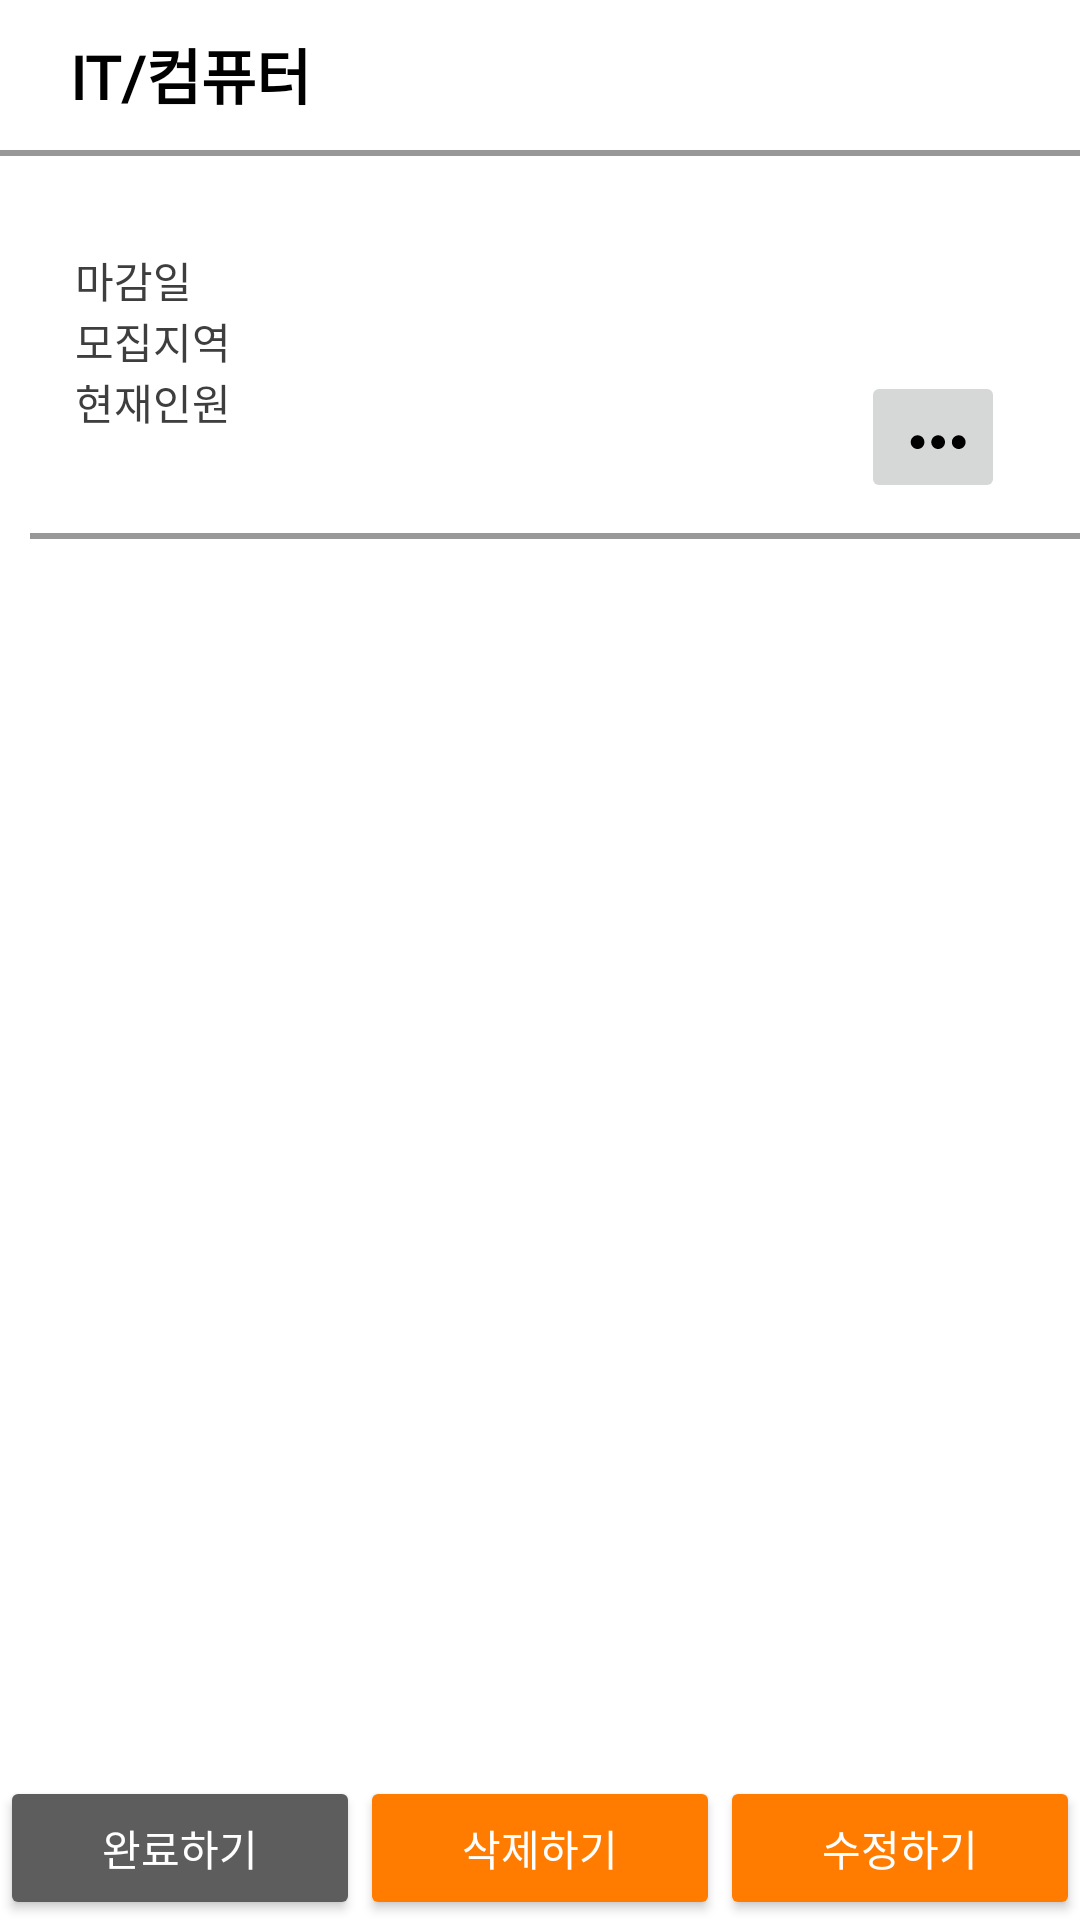

Locate icon controls on the screen. Image size 1080 x 1920, boxes as (x1, y1, x2, y2).
more horiz: (873, 389, 993, 485)
